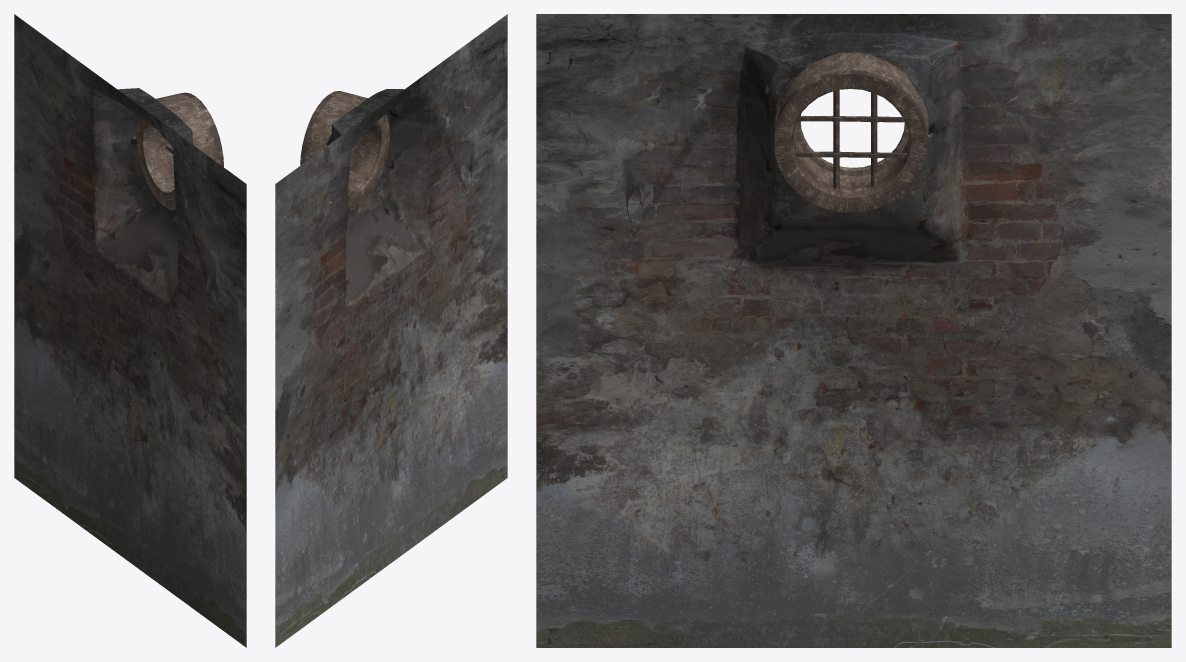
File: sm_CryptWall_01_01.fbx
3 renders of one model, left to right at view 1: azimuth 30°, elevation 25°; view 2: azimuth 150°, elevation 25°; view 3: azimuth 270°, elevation 25°, orthographic. The views are drawn at different scales.
Visible parts, largest first — view 1: sm_CryptWall_01_01_LOD0; view 2: sm_CryptWall_01_01_LOD0; view 3: sm_CryptWall_01_01_LOD0.
Part boxes in pixels (box(x1,y1,x2,y2)): sm_CryptWall_01_01_LOD0: box(14, 14, 246, 647); sm_CryptWall_01_01_LOD0: box(275, 14, 507, 647); sm_CryptWall_01_01_LOD0: box(536, 14, 1171, 647).
Bounding box in the file's own units: 41.71 × 250 × 275.
